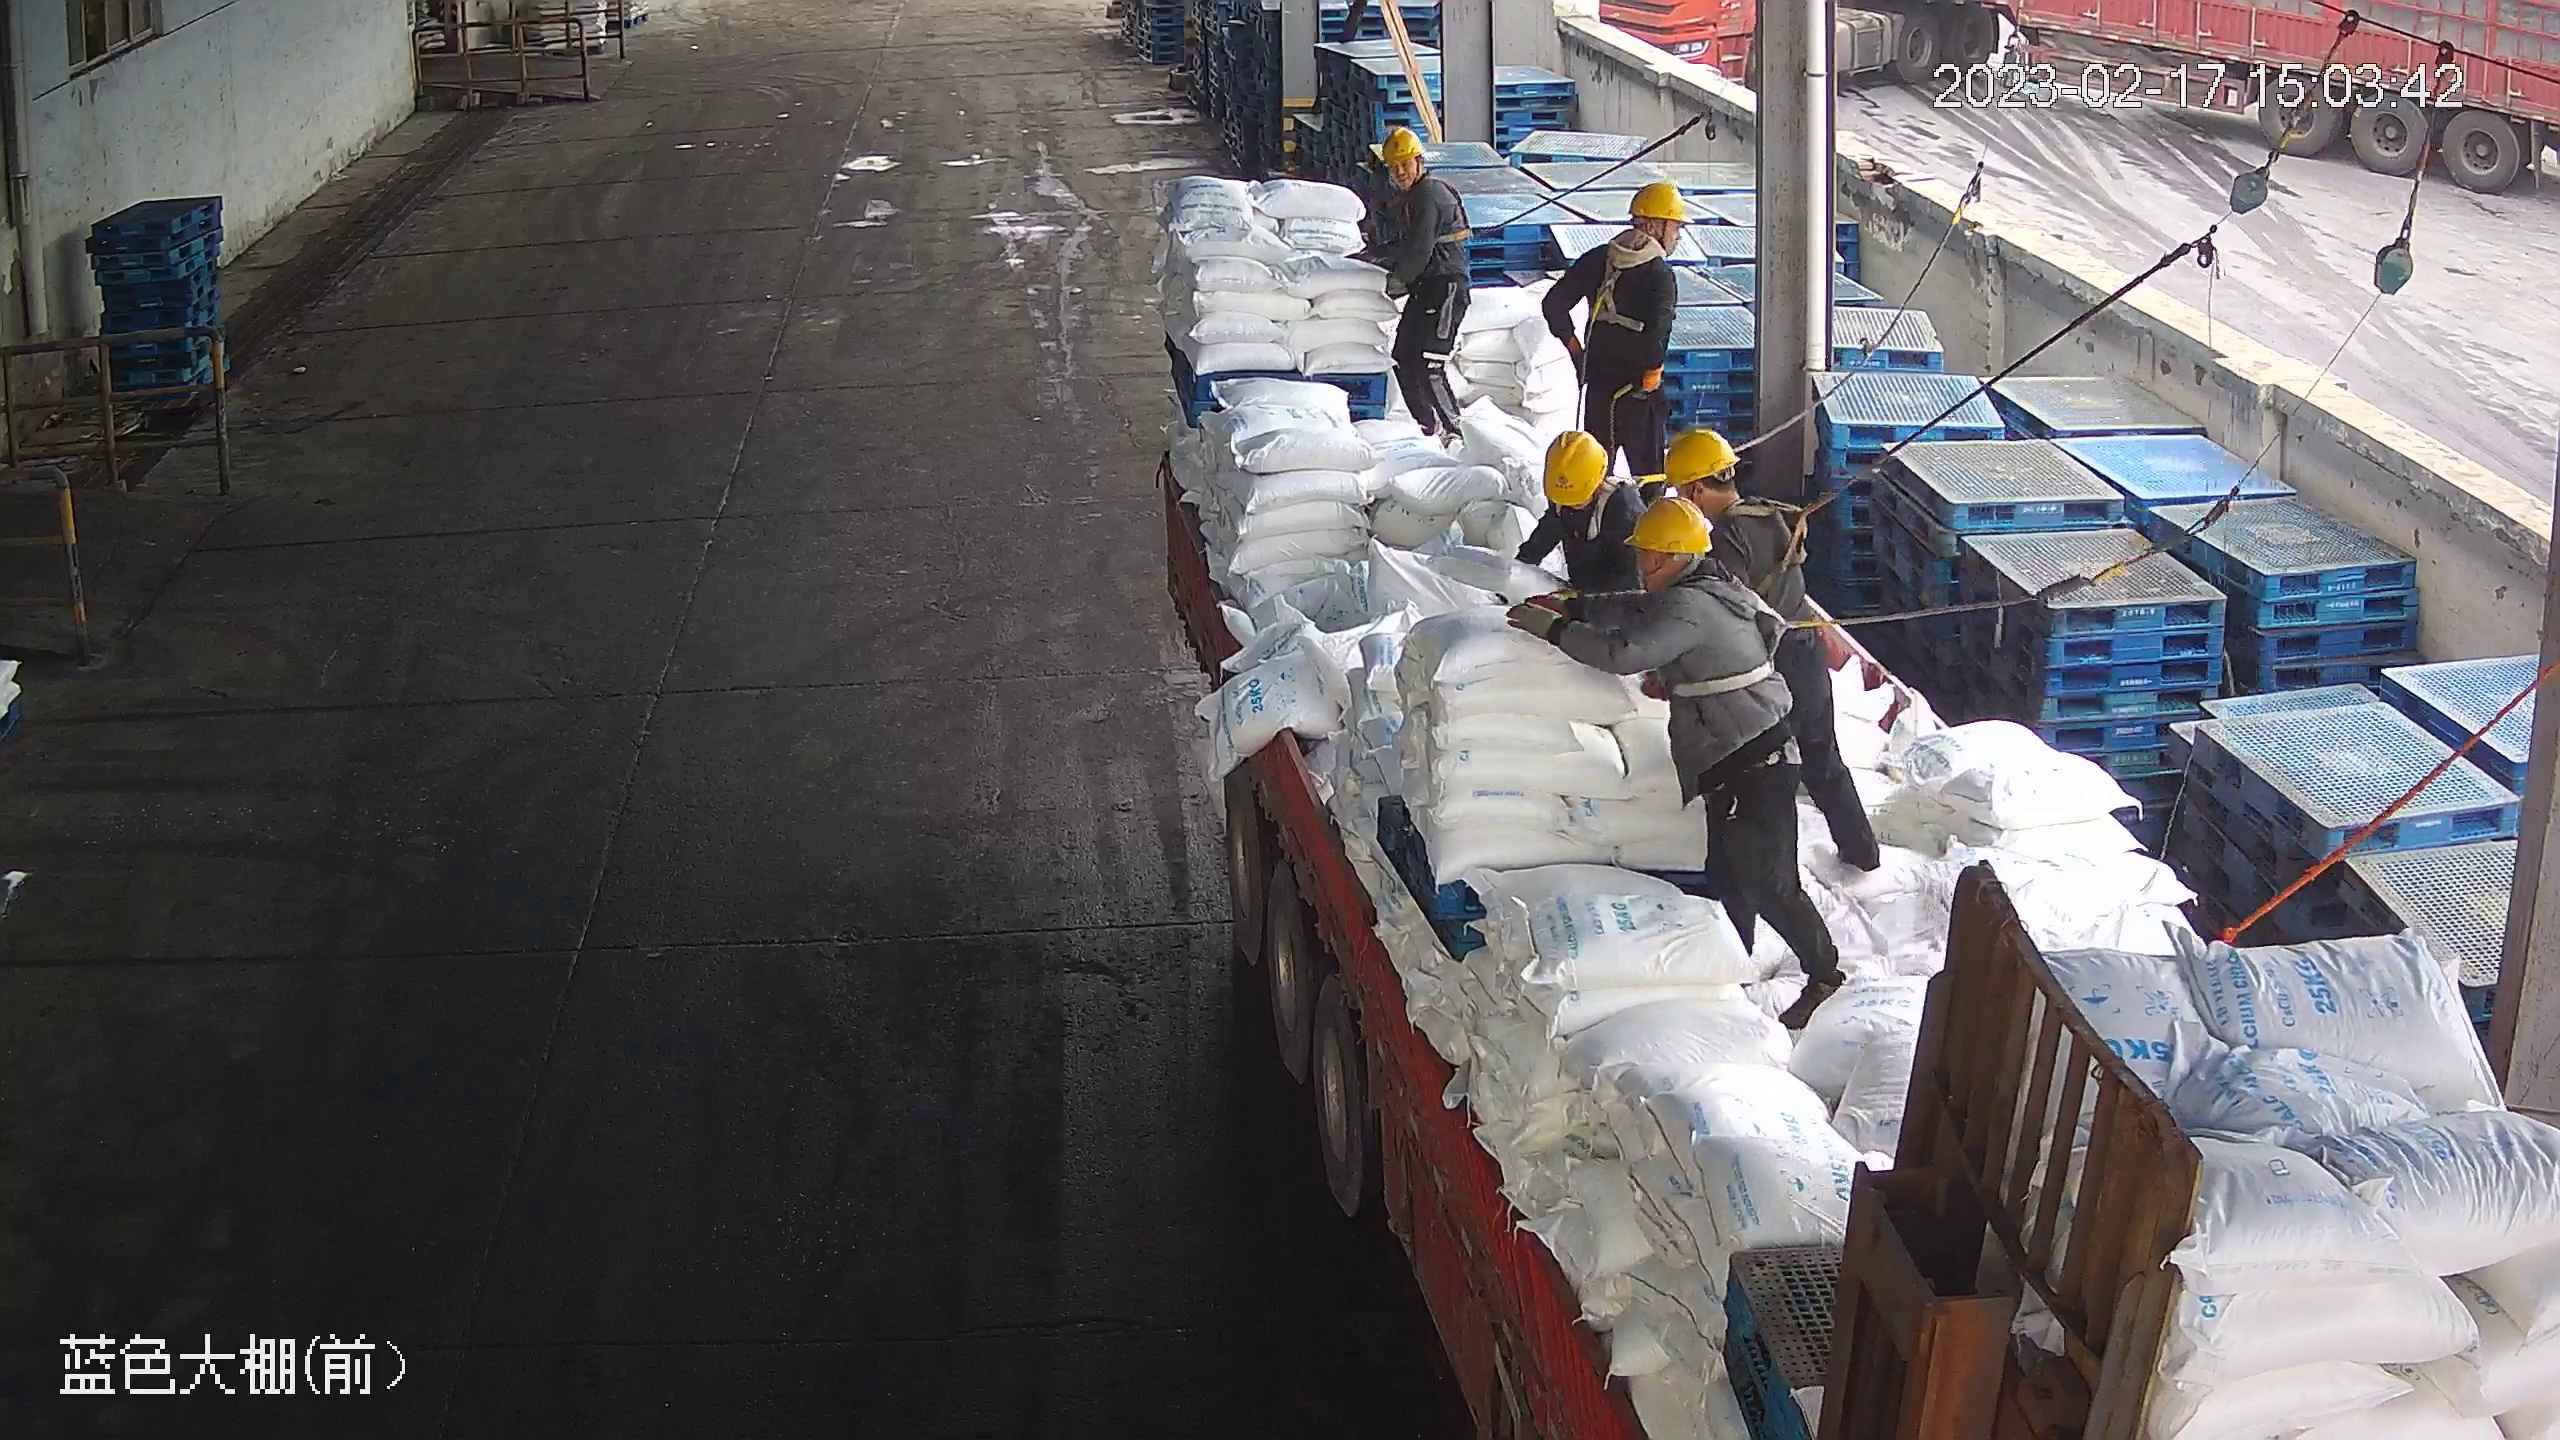belt: (1663, 566, 1812, 702), (1724, 482, 1819, 577), (1580, 244, 1667, 325), (1556, 473, 1639, 546), (1403, 172, 1479, 249)
head: (1603, 494, 1762, 635), (1531, 428, 1640, 569), (1664, 426, 1793, 539), (1579, 178, 1691, 285), (1373, 125, 1463, 216)
helmet: (1655, 422, 1740, 489), (1539, 428, 1610, 507), (1622, 493, 1715, 554), (1626, 178, 1687, 223), (1374, 124, 1426, 169)
people: (1622, 492, 1856, 1033), (1664, 425, 1885, 871), (1543, 177, 1681, 472), (1362, 123, 1475, 443)
truck: (1164, 123, 2560, 1440)
